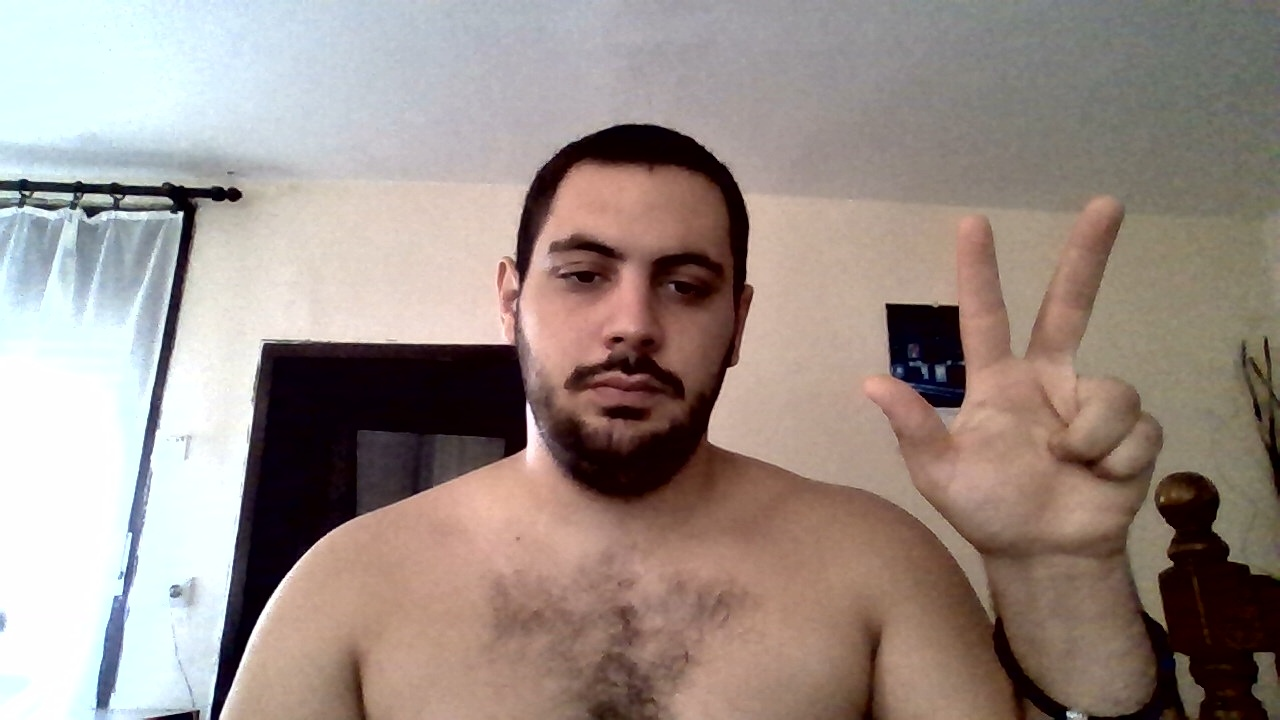serbia: (867, 195, 1165, 543)
